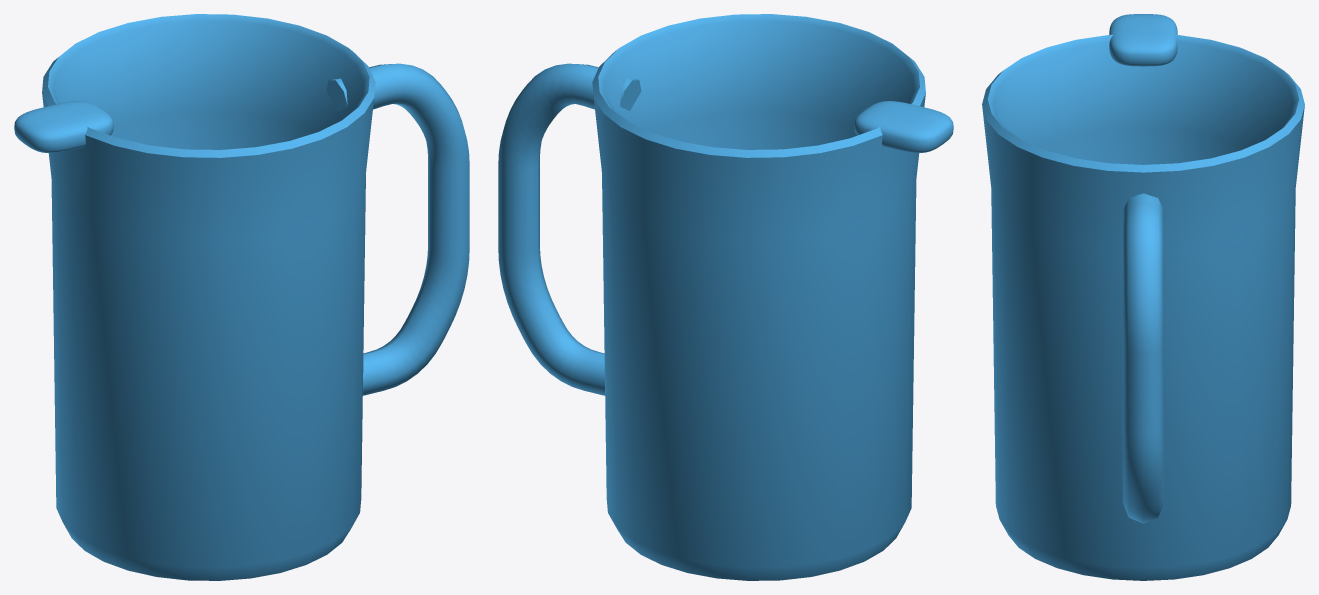
The model's file is jarra_ceramica.glb.
3 views of the same model, side by side, from view 1: azimuth 30°, elevation 25°; view 2: azimuth 150°, elevation 25°; view 3: azimuth 270°, elevation 25° (orthographic). The views are drawn at different scales.
Visible parts, largest first — view 1: jarra_ceramica; view 2: jarra_ceramica; view 3: jarra_ceramica.
Part boxes in pixels (x1,y1,x2,y2): jarra_ceramica: [14, 14, 469, 580]; jarra_ceramica: [498, 14, 953, 580]; jarra_ceramica: [982, 14, 1304, 580].
Bounding box in the file's own units: 0.215 × 0.204 × 0.14.
Materials: 1 (1 with a texture image).
